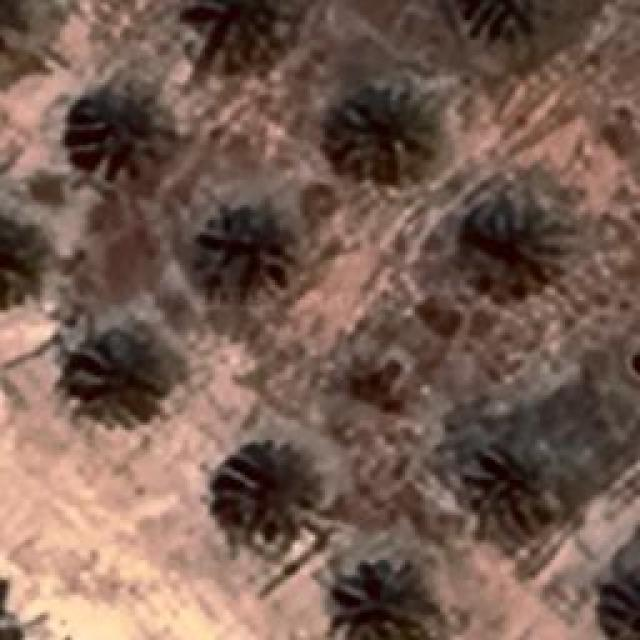PalmTree: (78, 19, 508, 95), (212, 448, 312, 560), (328, 82, 440, 180), (190, 195, 295, 298), (65, 80, 173, 172), (71, 320, 164, 425), (26, 95, 78, 260), (332, 560, 440, 638), (471, 445, 561, 535), (460, 207, 548, 295), (195, 0, 290, 70), (602, 561, 640, 640), (0, 0, 50, 52)
